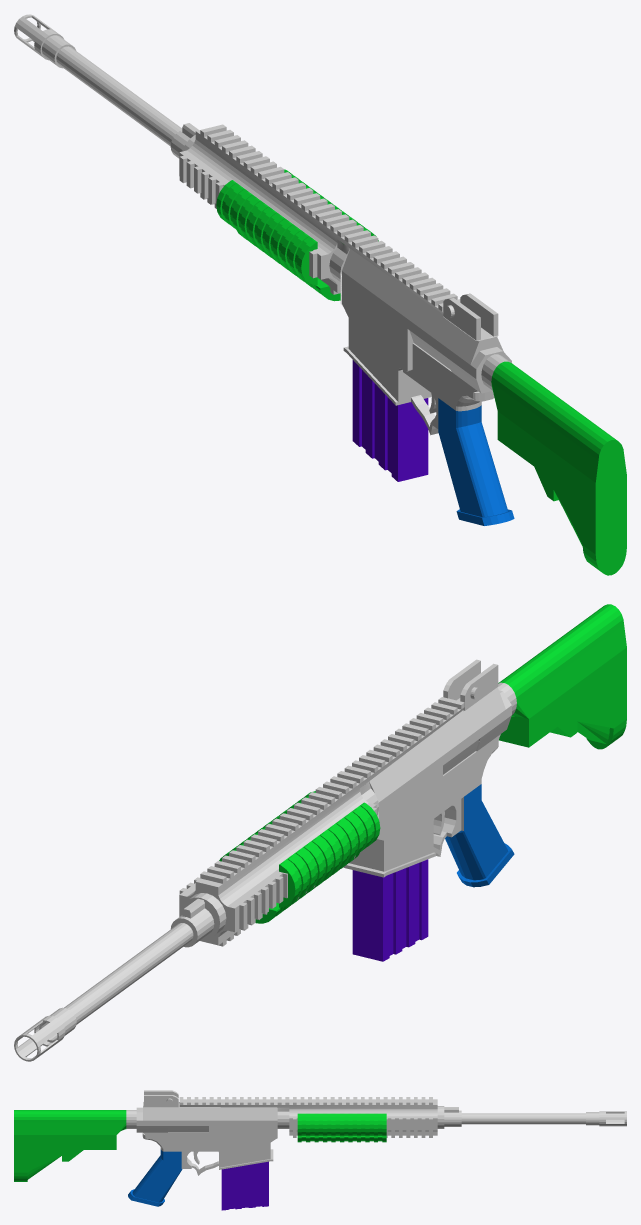
The picture shows the model from 3 angles, top to bottom: view 1: azimuth 30°, elevation 25°; view 2: azimuth 150°, elevation 25°; view 3: azimuth 270°, elevation 25°; orthographic projection. The views are drawn at different scales.
Visible parts, largest first — view 1: Cylinder; view 2: Cylinder; view 3: Cylinder.
Boxes of the visible parts, x1=… form: Cylinder: x1=14, y1=14, x2=626, y2=575; Cylinder: x1=14, y1=604, x2=626, y2=1061; Cylinder: x1=14, y1=1090, x2=626, y2=1210.
Size of the model in its own units: 5.34 by 68.35 by 13.95.
